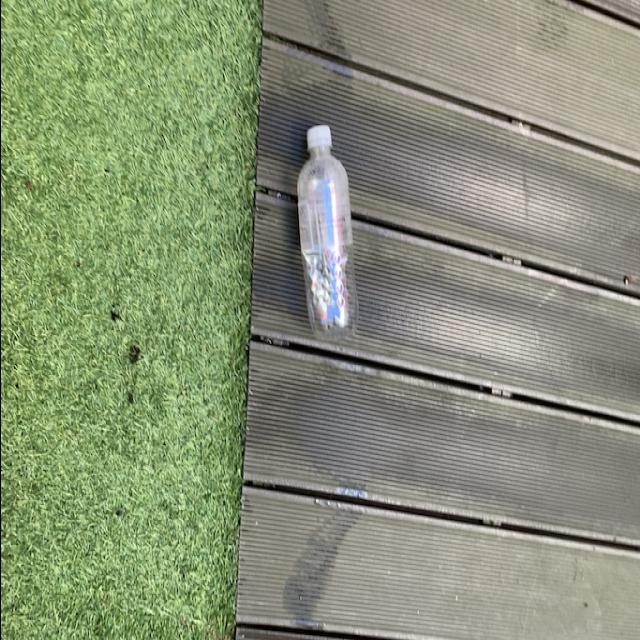litter: (294, 125, 357, 340)
